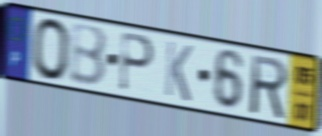6: (212, 47, 245, 114)
B: (69, 22, 109, 90)
K: (163, 38, 195, 105)
O: (31, 16, 72, 84)
P: (117, 30, 156, 96)
R: (250, 52, 290, 122)
